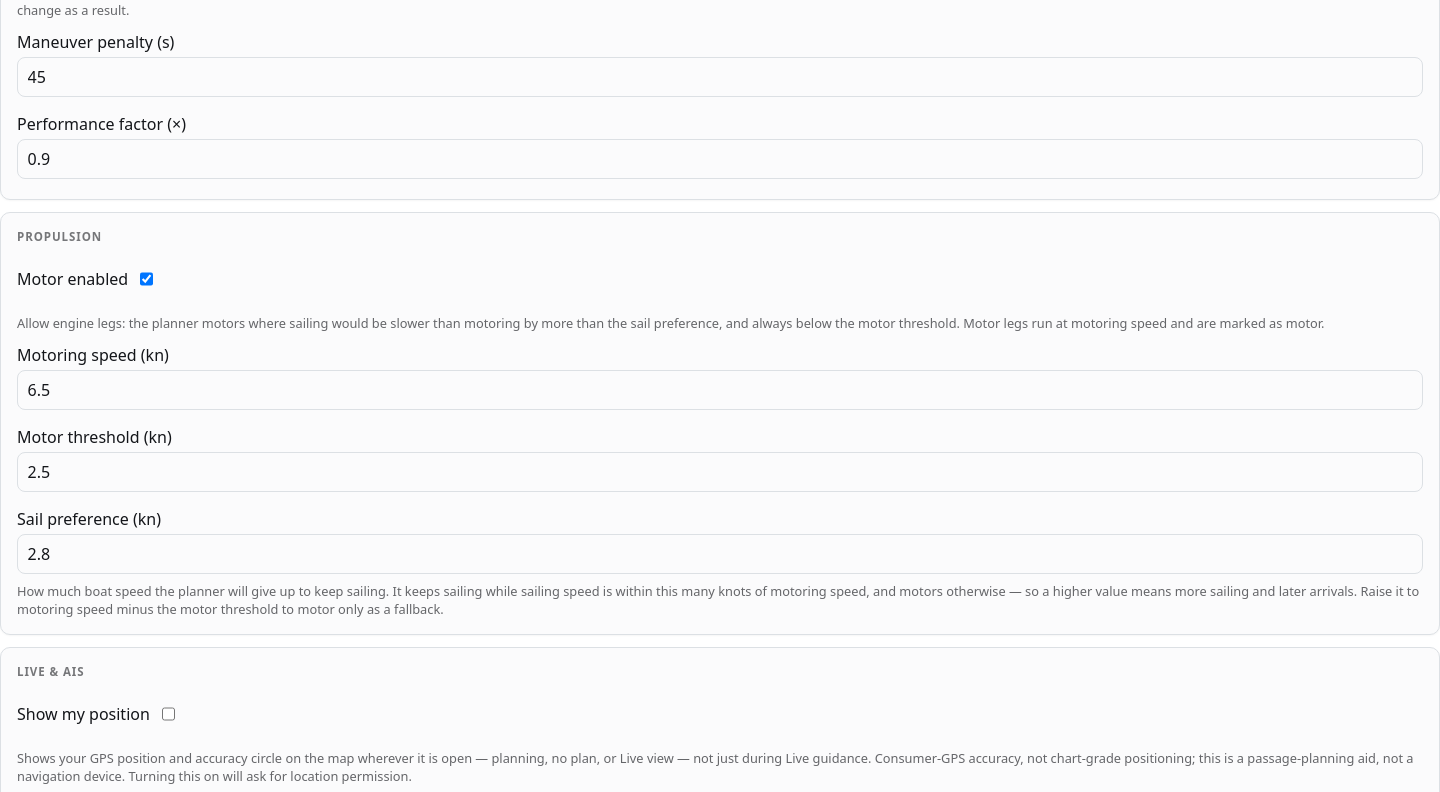
Test case: SettingsPanel (#299 Boat tab) › Propulsion group › clamps a value above the maximum on blur (motoring speed, max 10)
This screenshot has width=1440, height=792.
(page scrolled)
Replace the text in the number field labelled "Motoring speed (kn)" with "25" at (720, 390), box [17,370,1423,410]
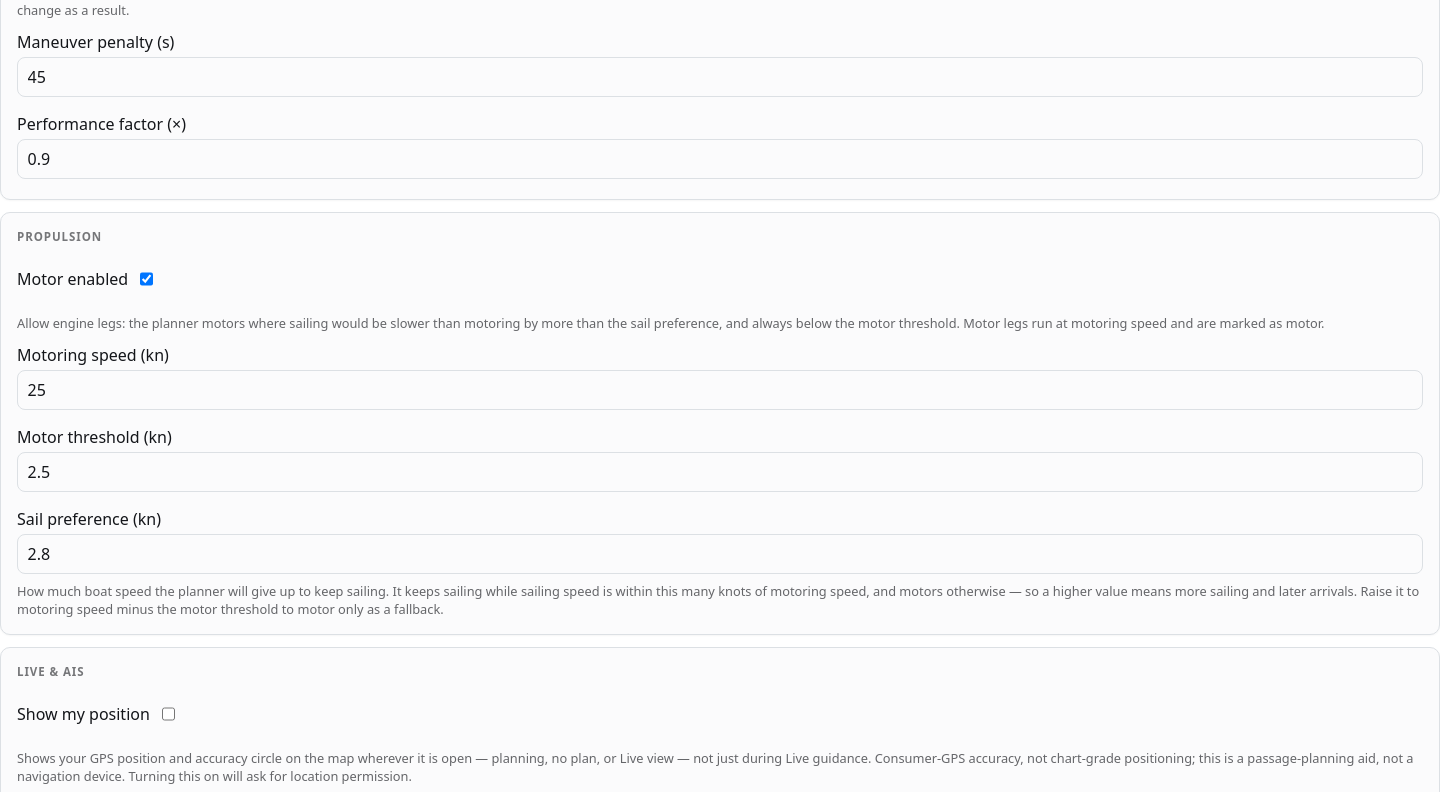
Leave the number field labelled "Motoring speed (kn)", box [17,370,1423,410]
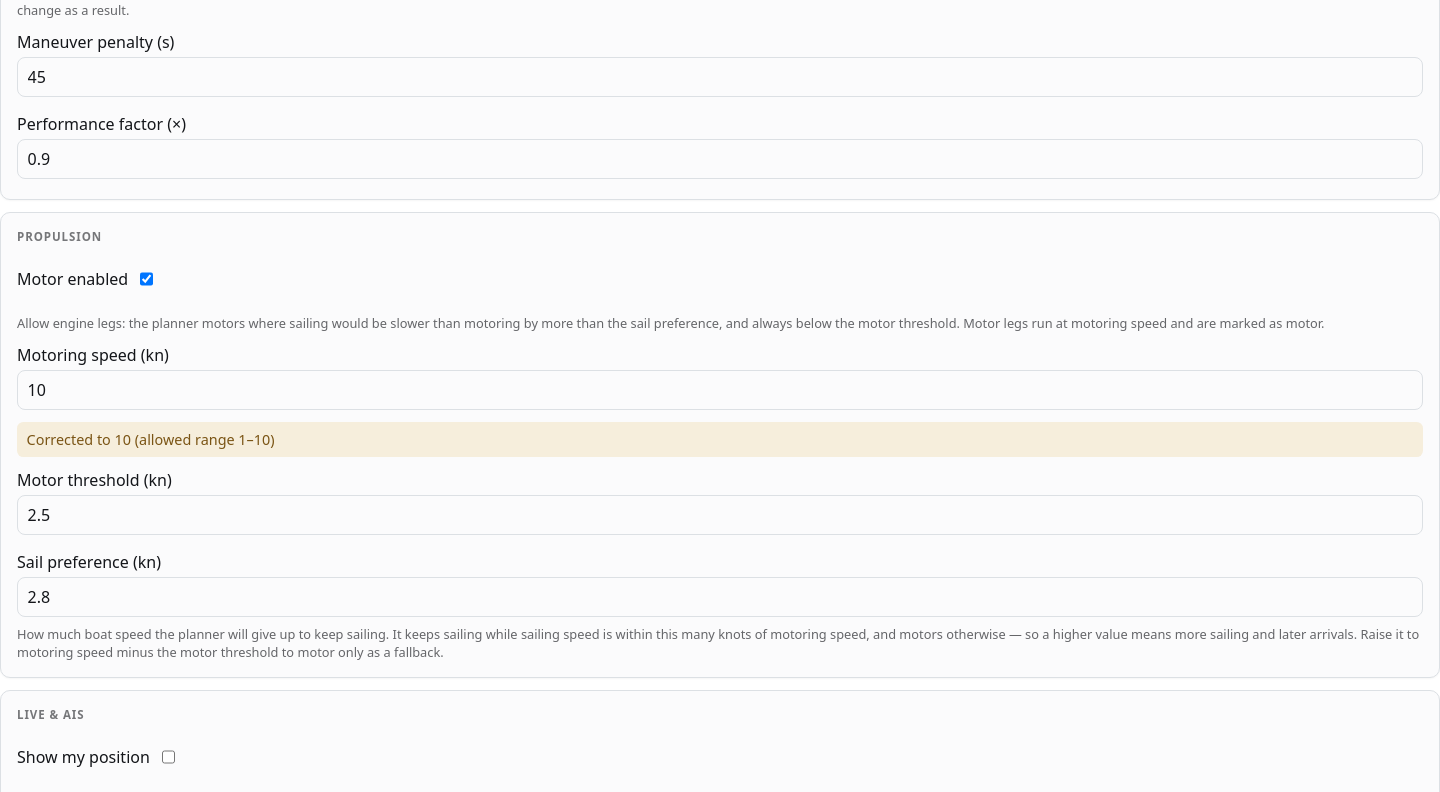
Now the number field labelled "Motoring speed (kn)" holds "10", box [17,370,1423,410]
